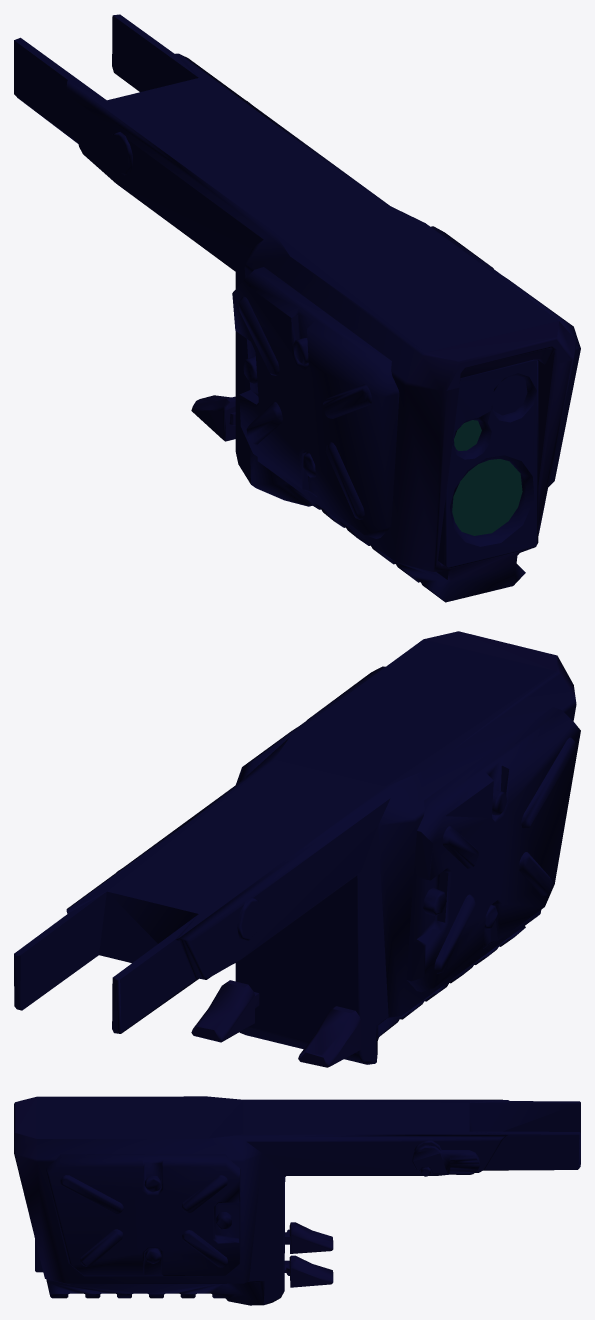
File: Receiver_Pistol_1.glb
3 renders of one model, top to bottom at view 1: azimuth 30°, elevation 25°; view 2: azimuth 150°, elevation 25°; view 3: azimuth 270°, elevation 25°, orthographic. The views are drawn at different scales.
Parts seen in each view (by area): view 1: Receiver_Pistol_1_1.001; view 2: Receiver_Pistol_1_1.001; view 3: Receiver_Pistol_1_1.001.
Part boxes in pixels (<box>): Receiver_Pistol_1_1.001: <box>14,14,580,602</box>; Receiver_Pistol_1_1.001: <box>14,631,580,1067</box>; Receiver_Pistol_1_1.001: <box>14,1096,580,1305</box>.
Size of the model in its own units: 0.0491 by 0.0601 by 0.1778.
